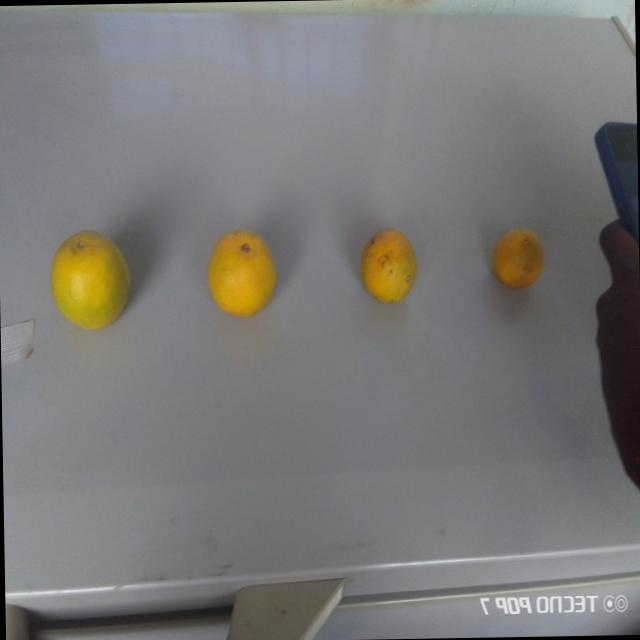agrume: (44, 221, 139, 335), (203, 224, 284, 329), (354, 220, 420, 313), (489, 218, 547, 300)
